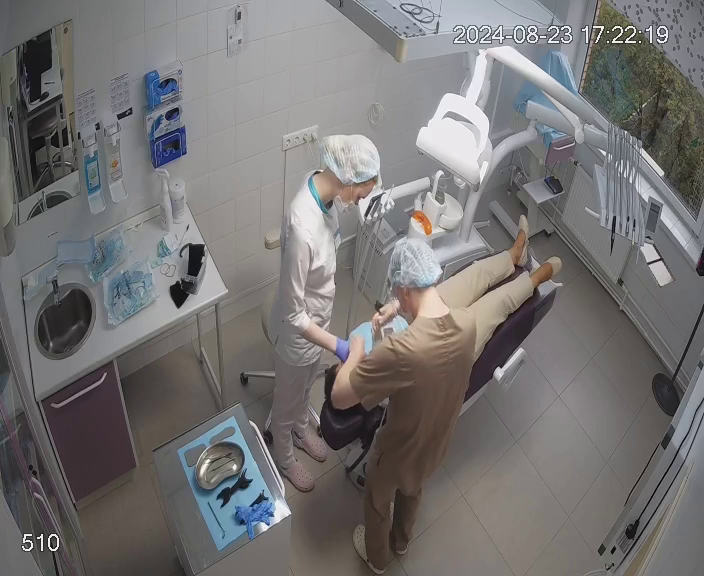Patient: (314, 210, 563, 456)
